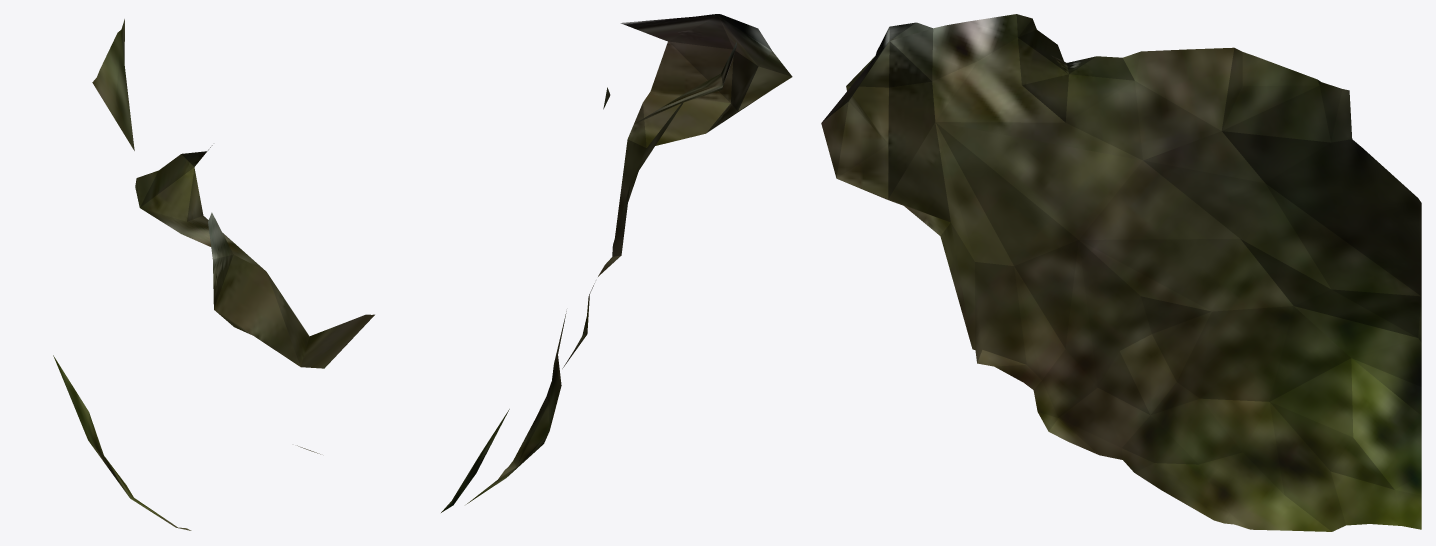
3 views of the same model, side by side, from view 1: azimuth 30°, elevation 25°; view 2: azimuth 150°, elevation 25°; view 3: azimuth 270°, elevation 25° (orthographic). The views are drawn at different scales.
Bounding box in the file's own units: 0.176 × 0.4738 × 0.5841.
Materials: 1 (1 with a texture image).
